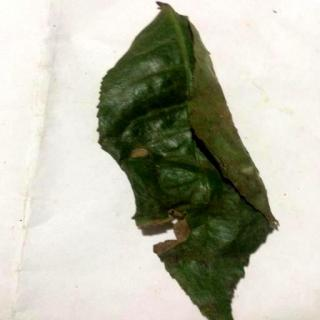Red Leaf Spot: (98, 2, 281, 320)
